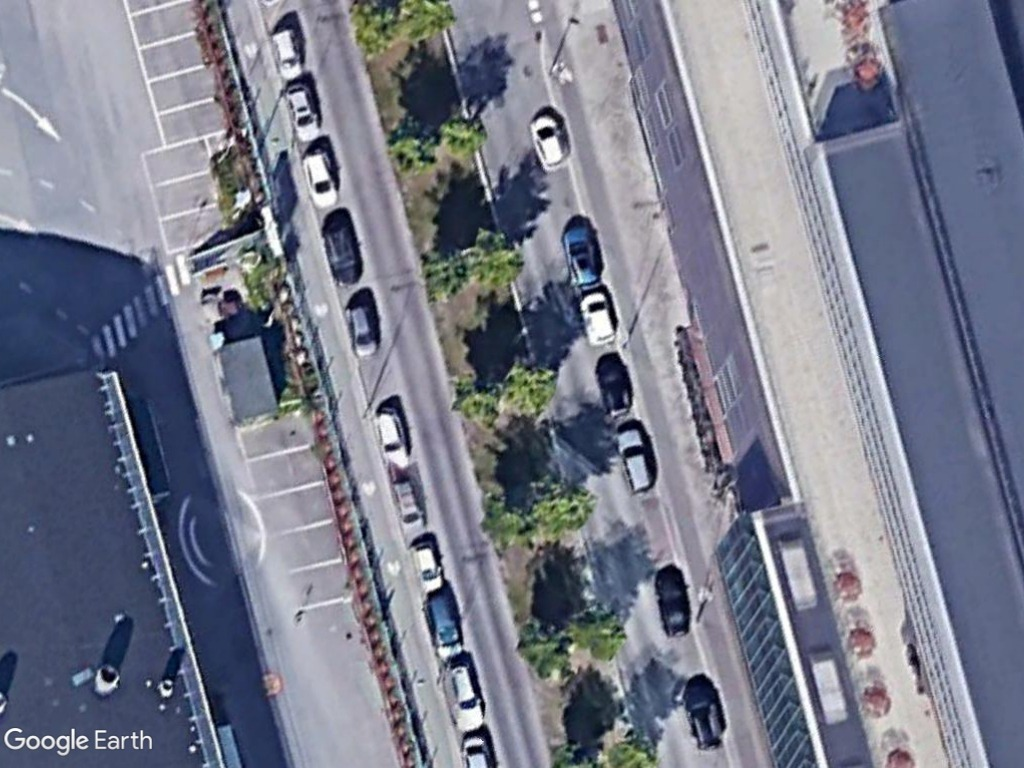car: (440, 649, 493, 740), (418, 583, 468, 667), (276, 78, 332, 147), (612, 419, 659, 500), (522, 107, 572, 177), (589, 346, 635, 419), (368, 401, 414, 472), (560, 222, 606, 292), (341, 298, 387, 363), (301, 143, 344, 212), (385, 468, 427, 537), (263, 21, 306, 88), (576, 285, 619, 351), (405, 534, 446, 597)
